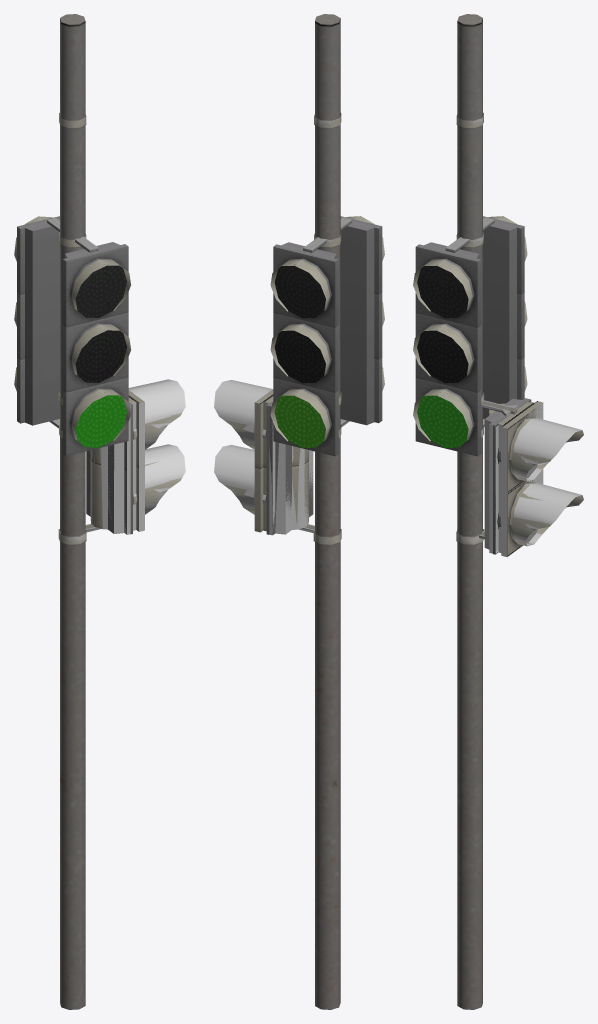
Rendered from ru_standalone_traffic_light_single.fbx.
The picture shows the model from 3 angles, left to right: view 1: azimuth 30°, elevation 25°; view 2: azimuth 150°, elevation 25°; view 3: azimuth 330°, elevation 25°; orthographic projection.
Visible parts, largest first — view 1: Vis1 01, _pedes_lgt_1 02, Vis1 03 (×2), _pedes_lgt_1 01, Vis1 02, _pedes_lgt_2 01, _pedes_lgt_2 03, _pedes_lgt_3 01; view 2: Vis1 01, _pedes_lgt_1 02, Vis1 03 (×2), _pedes_lgt_1 01, Vis1 02, _pedes_lgt_2 03, _pedes_lgt_2 01, _pedes_lgt_3 01; view 3: Vis1 01, _pedes_lgt_1 02, Vis1 03 (×2), _pedes_lgt_1 01, Vis1 02, _pedes_lgt_2 03, _pedes_lgt_2 01, _pedes_lgt_3 01.
Part boxes in pixels (left/top/right/bottom): Vis1 01: left=14, top=14, right=130, bottom=1009; _pedes_lgt_1 02: left=90, top=379, right=185, bottom=531; Vis1 03 (×2): left=75, top=265, right=126, bottom=382; _pedes_lgt_1 01: left=85, top=390, right=181, bottom=531; Vis1 02: left=75, top=395, right=126, bottom=447; _pedes_lgt_2 01: left=58, top=391, right=137, bottom=545; _pedes_lgt_2 03: left=87, top=391, right=136, bottom=534; _pedes_lgt_3 01: left=59, top=393, right=132, bottom=536; Vis1 01: left=270, top=14, right=384, bottom=1009; _pedes_lgt_1 02: left=214, top=380, right=308, bottom=531; Vis1 03 (×2): left=274, top=265, right=325, bottom=383; _pedes_lgt_1 01: left=223, top=389, right=314, bottom=532; Vis1 02: left=274, top=395, right=325, bottom=447; _pedes_lgt_2 03: left=262, top=391, right=314, bottom=535; _pedes_lgt_2 01: left=265, top=391, right=341, bottom=545; _pedes_lgt_3 01: left=266, top=393, right=340, bottom=536; Vis1 01: left=413, top=14, right=527, bottom=1009; _pedes_lgt_1 02: left=489, top=403, right=581, bottom=556; Vis1 03 (×2): left=417, top=265, right=468, bottom=383; _pedes_lgt_1 01: left=480, top=401, right=583, bottom=556; Vis1 02: left=417, top=395, right=468, bottom=447; _pedes_lgt_2 03: left=478, top=404, right=532, bottom=553; _pedes_lgt_2 01: left=456, top=392, right=536, bottom=549; _pedes_lgt_3 01: left=457, top=393, right=531, bottom=554.
Size of the model in its own units: 0.7143 by 4.93 by 0.6122.
